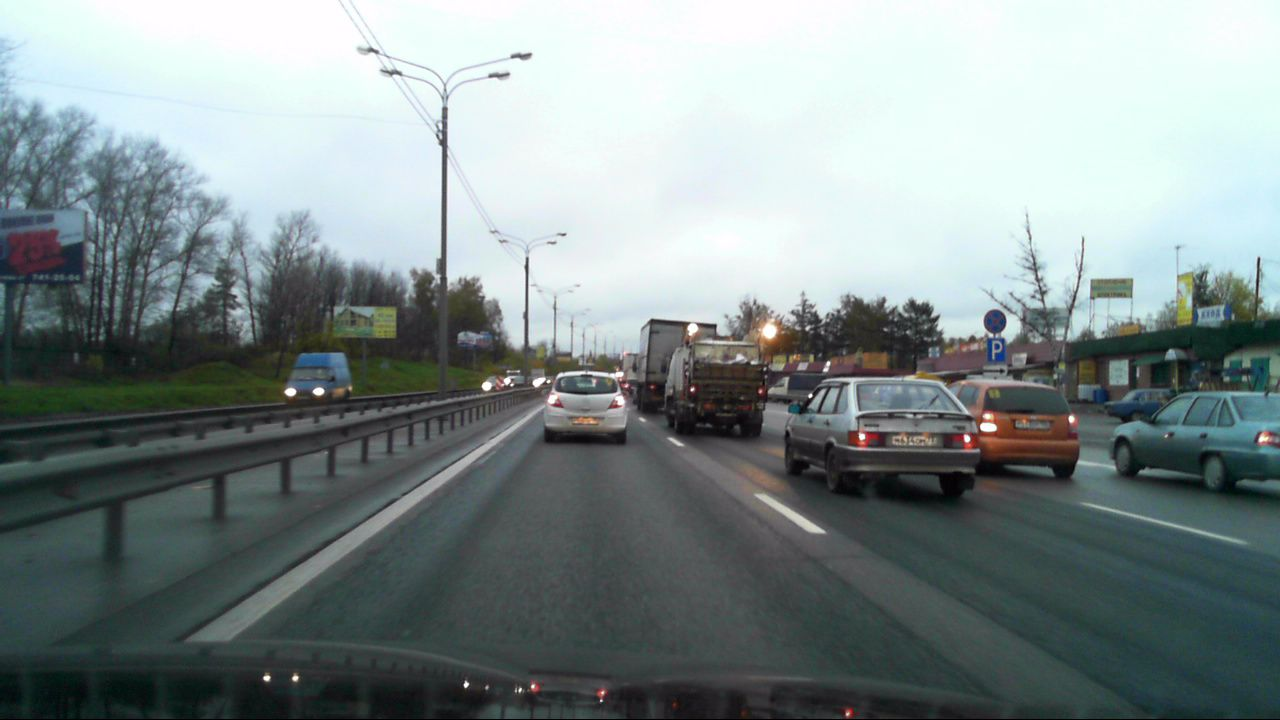No Parking: (983, 310, 1006, 333)
